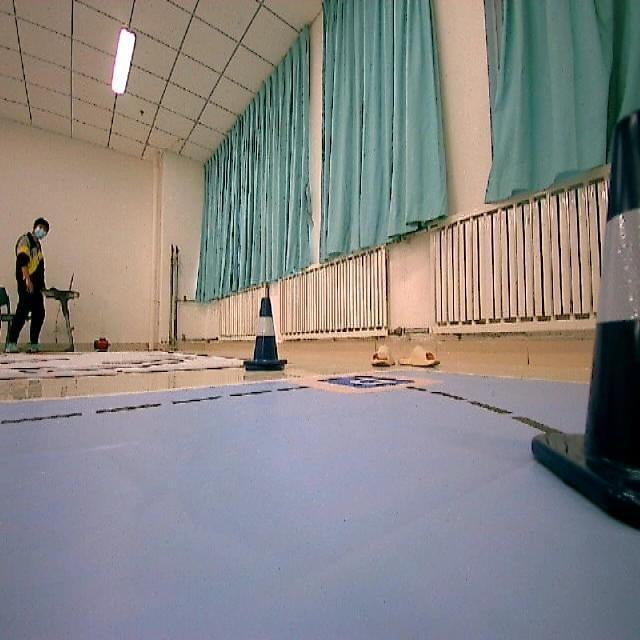obstacle: (246, 290, 292, 388)
